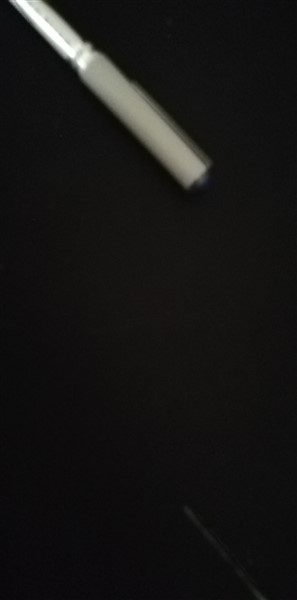pilot kalem: (1, 1, 227, 206)
